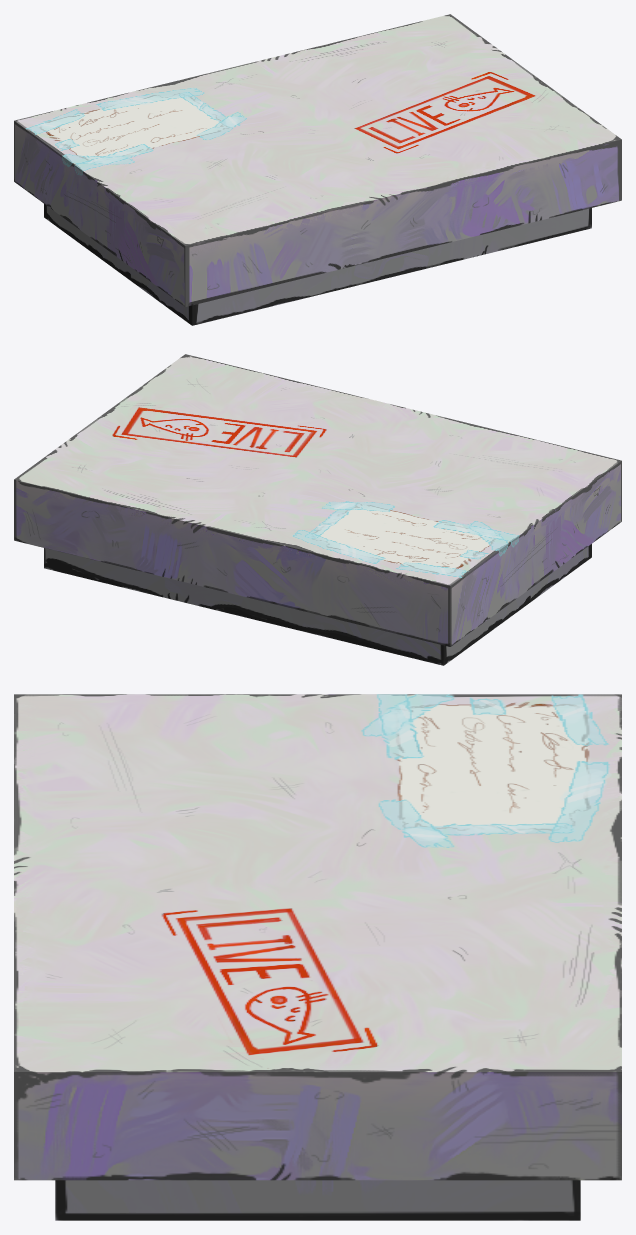
File: Cooler_Top.fbx
The picture shows the model from 3 angles, top to bottom: view 1: azimuth 30°, elevation 25°; view 2: azimuth 150°, elevation 25°; view 3: azimuth 270°, elevation 25°; orthographic projection. The views are drawn at different scales.
Parts seen in each view (by area): view 1: Cooler_Top; view 2: Cooler_Top; view 3: Cooler_Top.
Boxes of the visible parts, <box> form: Cooler_Top: <box>14,14,621,325</box>; Cooler_Top: <box>14,354,621,665</box>; Cooler_Top: <box>14,694,621,1220</box>.
Size of the model in its own units: 3.12 by 0.6347 by 2.12.
Materials: 1 (1 with a texture image).
